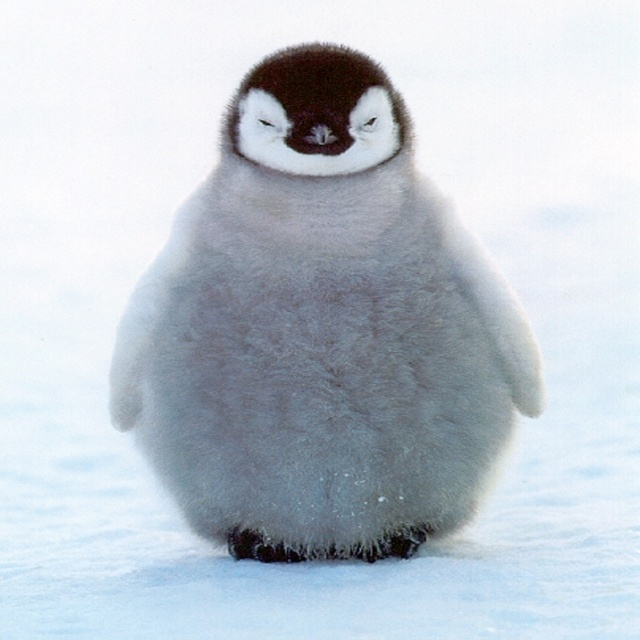Penguin: (109, 47, 518, 593)
